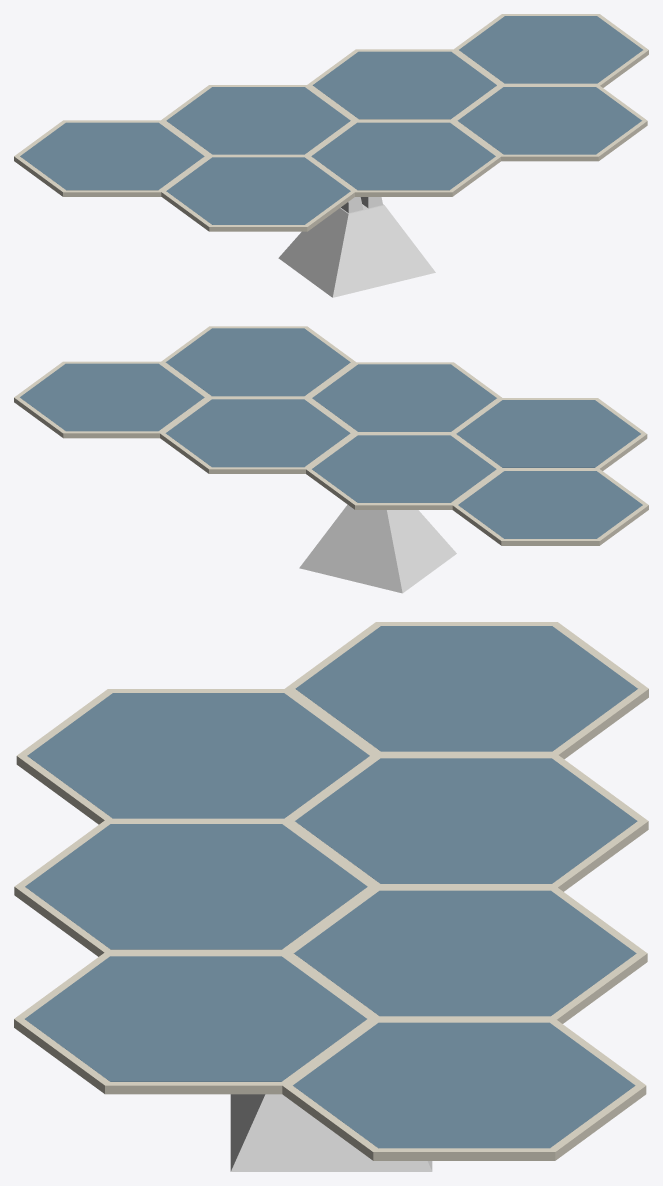
Rendered from a solar panel1.fbx.
3 renders of one model, top to bottom at view 1: azimuth 30°, elevation 25°; view 2: azimuth 150°, elevation 25°; view 3: azimuth 270°, elevation 25°, orthographic. The views are drawn at different scales.
Visible parts, largest first — view 1: Cube, Cylinder; view 2: Cube, Cylinder; view 3: Cube, Cylinder.
Part boxes in pixels (<box>): Cube: <box>14,14,648,231</box>; Cylinder: <box>278,197,435,297</box>; Cube: <box>14,326,648,545</box>; Cylinder: <box>299,504,456,593</box>; Cube: <box>14,622,648,1160</box>; Cylinder: <box>230,1094,432,1171</box>.
Size of the model in its own units: 366 by 79.61 by 185.
